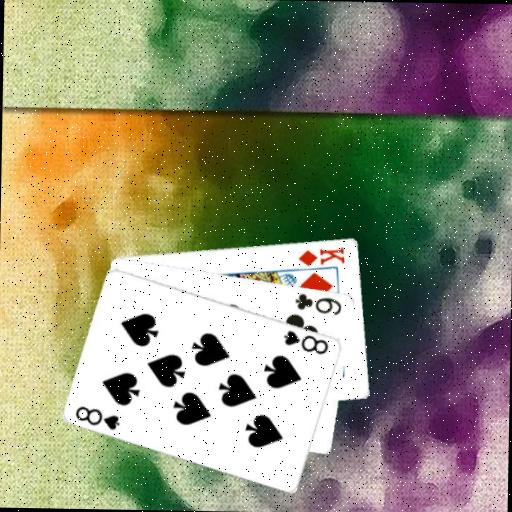6C: (293, 290, 344, 317)
8S: (280, 327, 331, 356), (73, 403, 122, 432)
KD: (295, 243, 347, 268)
